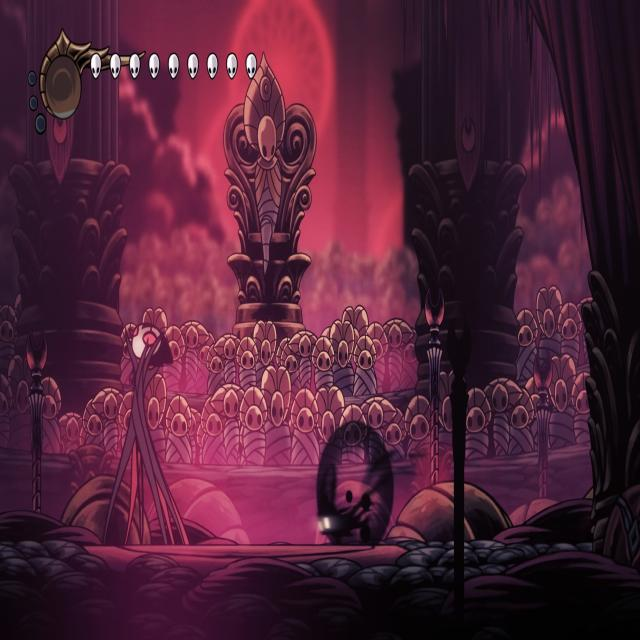Grimm: (104, 306, 191, 539)
Player: (314, 466, 364, 544)
